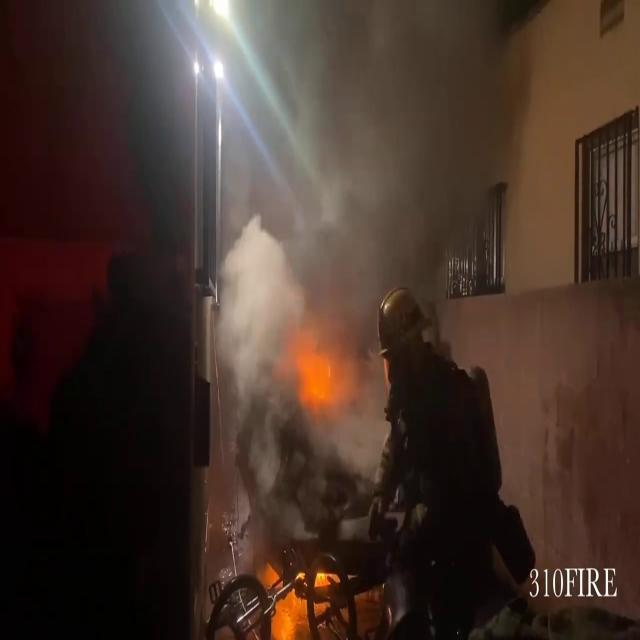Smoke: (186, 2, 544, 472)
